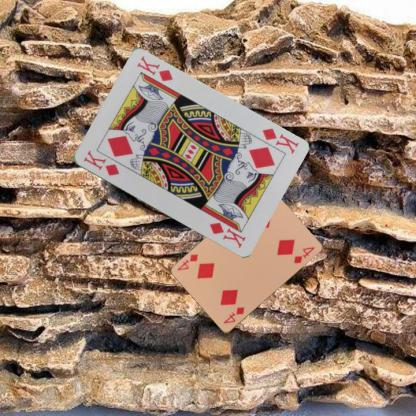4d: (221, 304, 245, 326)
Kd: (259, 125, 300, 155), (80, 148, 120, 178)
